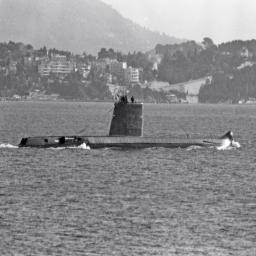submarine: (19, 103, 234, 151)
